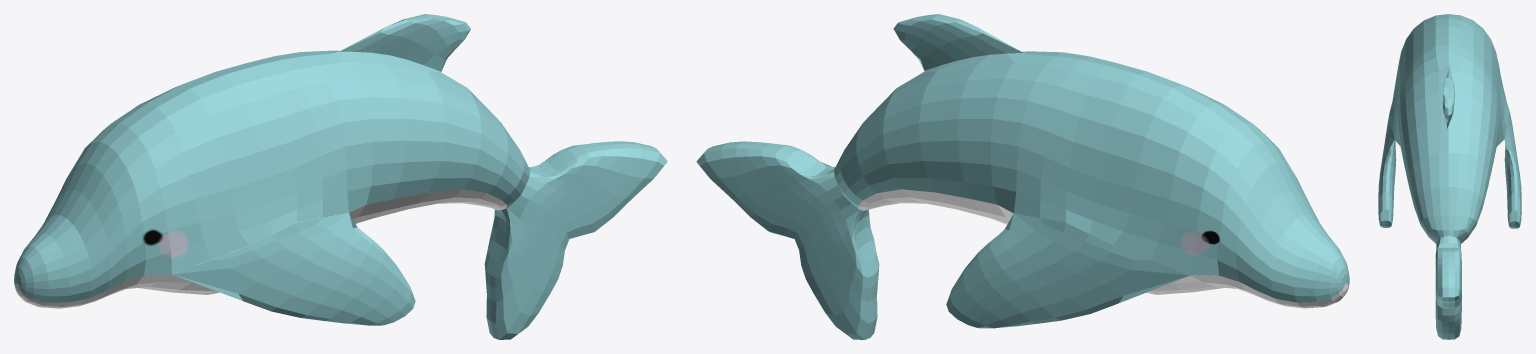
The model's file is dolphin3.fbx.
3 views of the same model, side by side, from view 1: azimuth 30°, elevation 25°; view 2: azimuth 150°, elevation 25°; view 3: azimuth 270°, elevation 25° (orthographic). The views are drawn at different scales.
Parts seen in each view (by area): view 1: Cylinder; view 2: Cylinder; view 3: Cylinder.
Part boxes in pixels (box(x1,y1,x2,y2)): Cylinder: box(14, 14, 667, 339); Cylinder: box(696, 14, 1349, 339); Cylinder: box(1378, 14, 1521, 339).
Size of the model in its own units: 471 by 238 by 135.
1 material, 1 textured.
